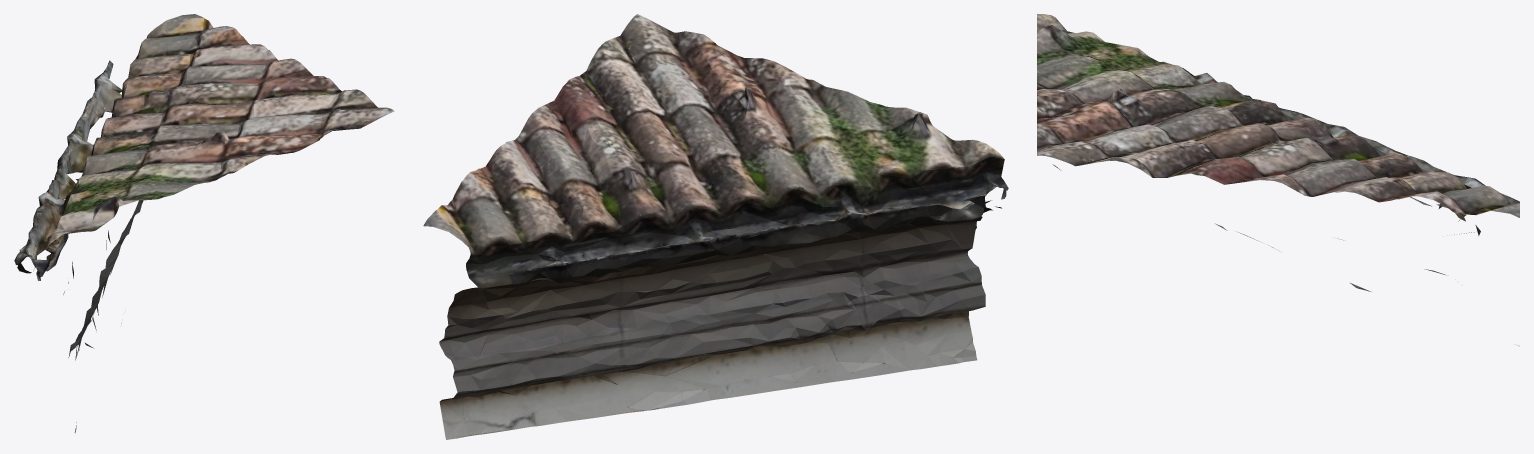
3 views of the same model, side by side, from view 1: azimuth 30°, elevation 25°; view 2: azimuth 150°, elevation 25°; view 3: azimuth 270°, elevation 25° (orthographic). The views are drawn at different scales.
Bounding box in the file's own units: 1.67 × 1.14 × 1.67.
Materials: 4 (4 with a texture image).
